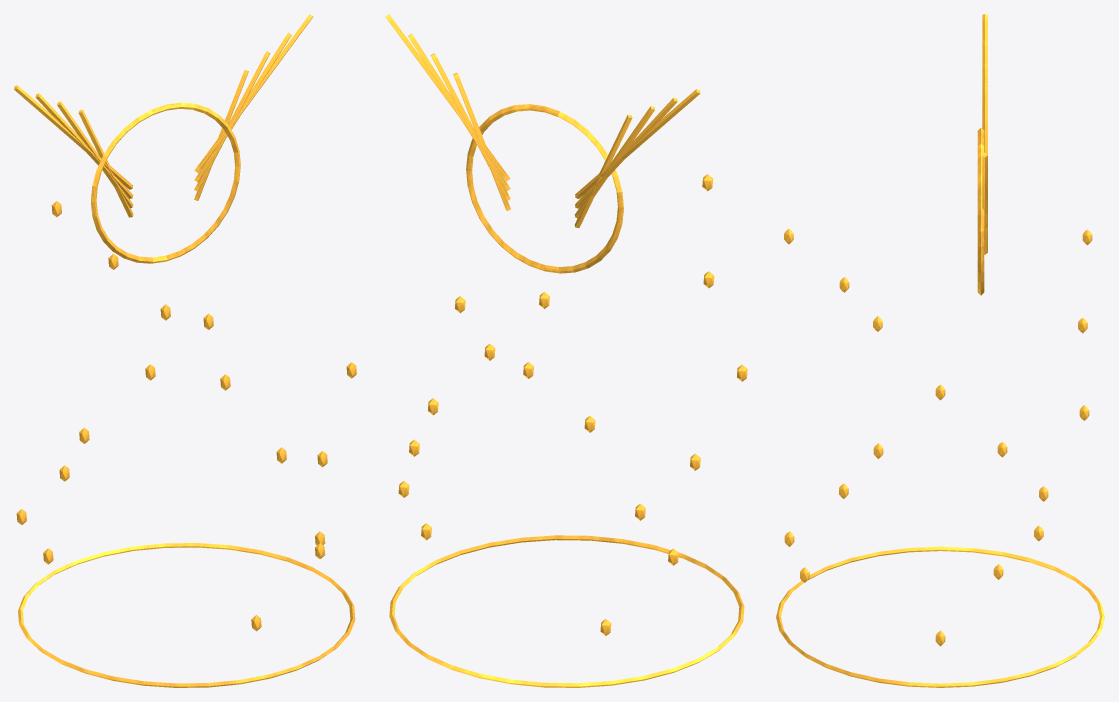
Rendered from aura-holy.glb.
3 renders of one model, left to right at view 1: azimuth 30°, elevation 25°; view 2: azimuth 150°, elevation 25°; view 3: azimuth 270°, elevation 25°, orthographic. The views are drawn at different scales.
Visible parts, largest first — view 1: GroundRing, BackHalo, WingRay.003, WingRay.007, WingRay.006, WingRay.002, WingRay.005, WingRay.001, WingRay, WingRay.004; view 2: GroundRing, BackHalo, WingRay.003, WingRay.007, WingRay.006, WingRay.002, WingRay.005, WingRay.001, WingRay, WingRay.004; view 3: GroundRing, BackHalo.
Boxes of the visible parts, left/top/right/bottom form: GroundRing: left=18, top=543, right=355, bottom=687; BackHalo: left=91, top=102, right=240, bottom=263; WingRay.003: left=14, top=85, right=132, bottom=189; WingRay.007: left=194, top=14, right=313, bottom=172; WingRay.006: left=194, top=32, right=291, bottom=182; WingRay.002: left=35, top=93, right=133, bottom=198; WingRay.005: left=194, top=51, right=270, bottom=191; WingRay.001: left=57, top=101, right=133, bottom=208; WingRay: left=78, top=109, right=133, bottom=217; WingRay.004: left=194, top=70, right=248, bottom=200; GroundRing: left=389, top=535, right=744, bottom=687; BackHalo: left=466, top=104, right=623, bottom=273; WingRay.003: left=575, top=89, right=700, bottom=198; WingRay.007: left=385, top=14, right=510, bottom=181; WingRay.006: left=408, top=33, right=510, bottom=190; WingRay.002: left=575, top=97, right=677, bottom=208; WingRay.005: left=430, top=53, right=510, bottom=200; WingRay.001: left=574, top=106, right=654, bottom=218; WingRay: left=574, top=114, right=632, bottom=227; WingRay.004: left=453, top=73, right=510, bottom=210; GroundRing: left=776, top=546, right=1104, bottom=687; BackHalo: left=977, top=128, right=984, bottom=295.
Bounding box in the file's own units: 0.8302 × 1.46 × 0.812.
1 material, 1 textured.
